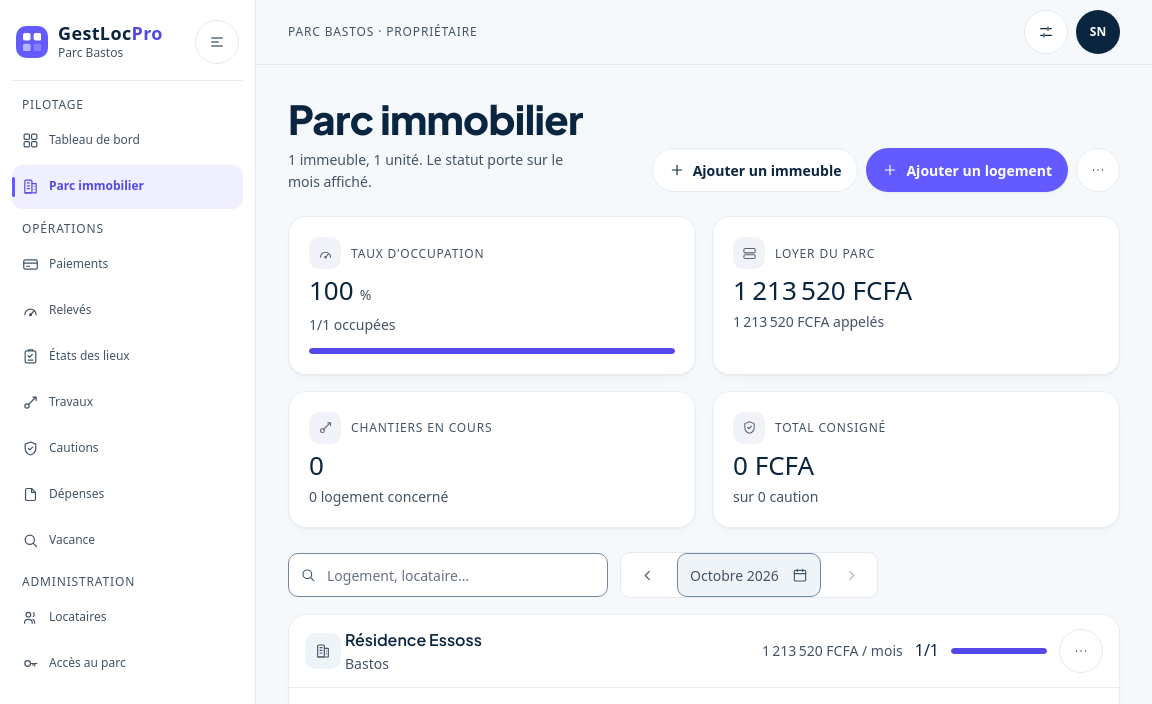
Test: corriger le parc › n’envoie que ce qui a changé
The width and height of the screenshot is (1152, 704).
Click the button named "Autres actions": (1098, 170) [1076,148,1120,192]
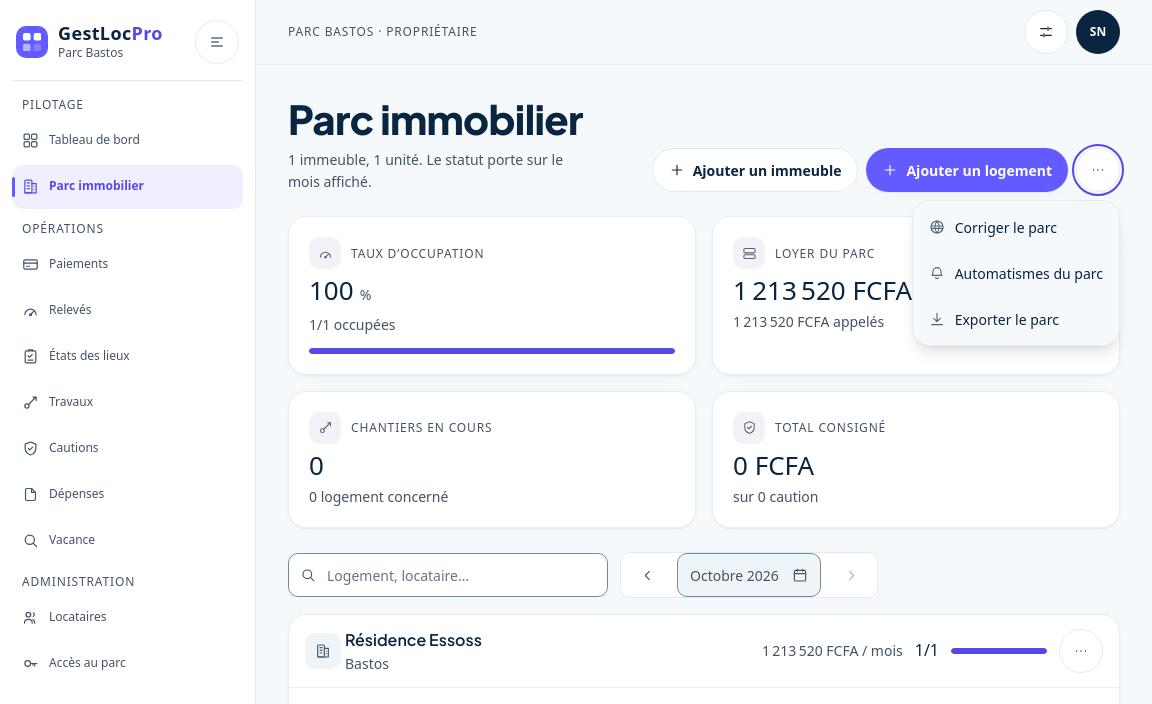
Click the menu item "Corriger le parc": (1016, 227) [917,205,1115,249]
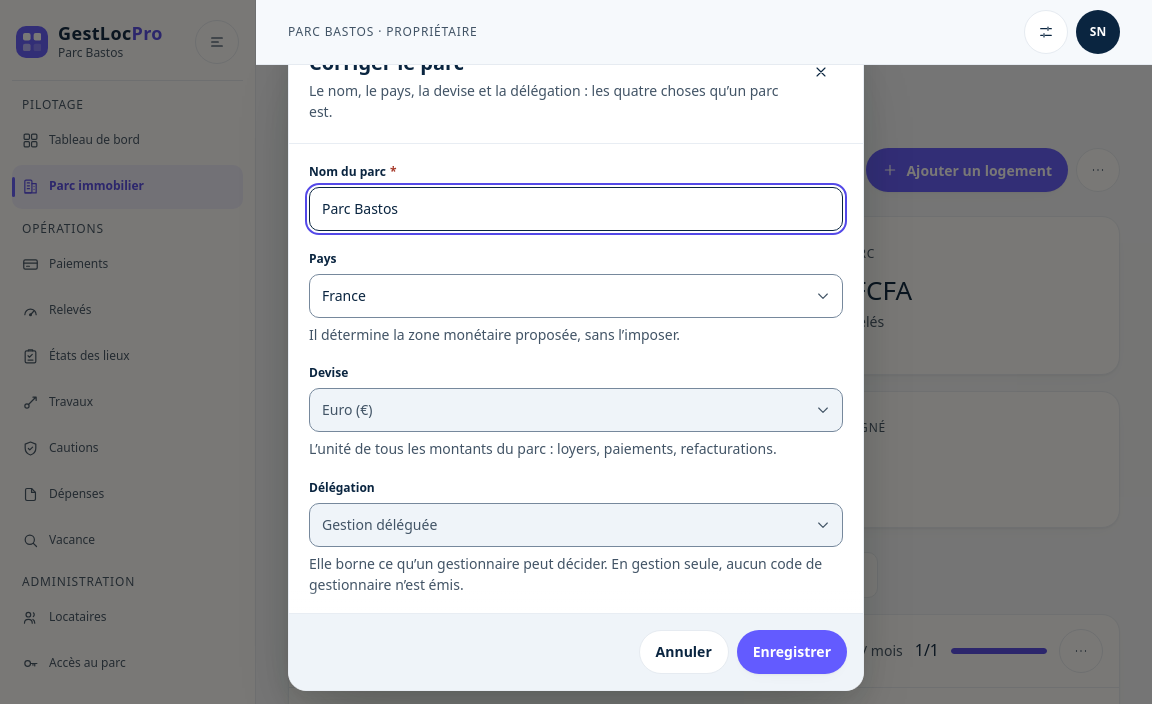
Replace the text in the field labelled "Nom du parc*" with "Parc Bastos II": (576, 209) [309,187,843,231]
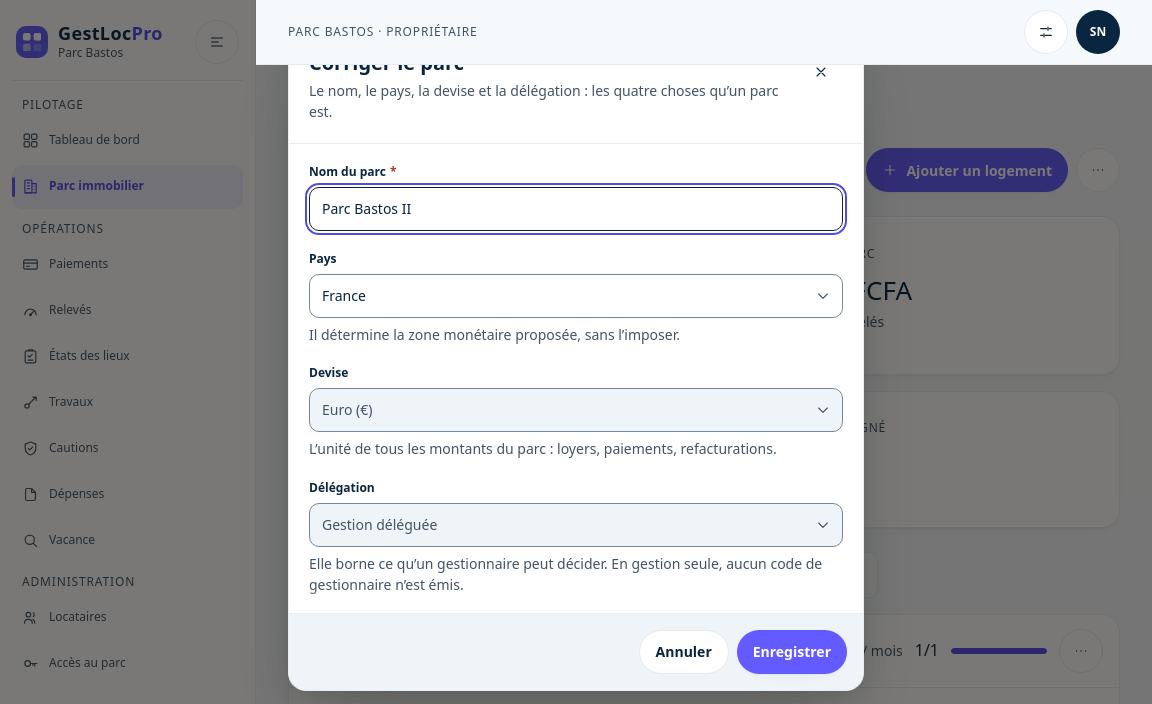
Click the button "Enregistrer": (792, 652) [737,630,847,674]
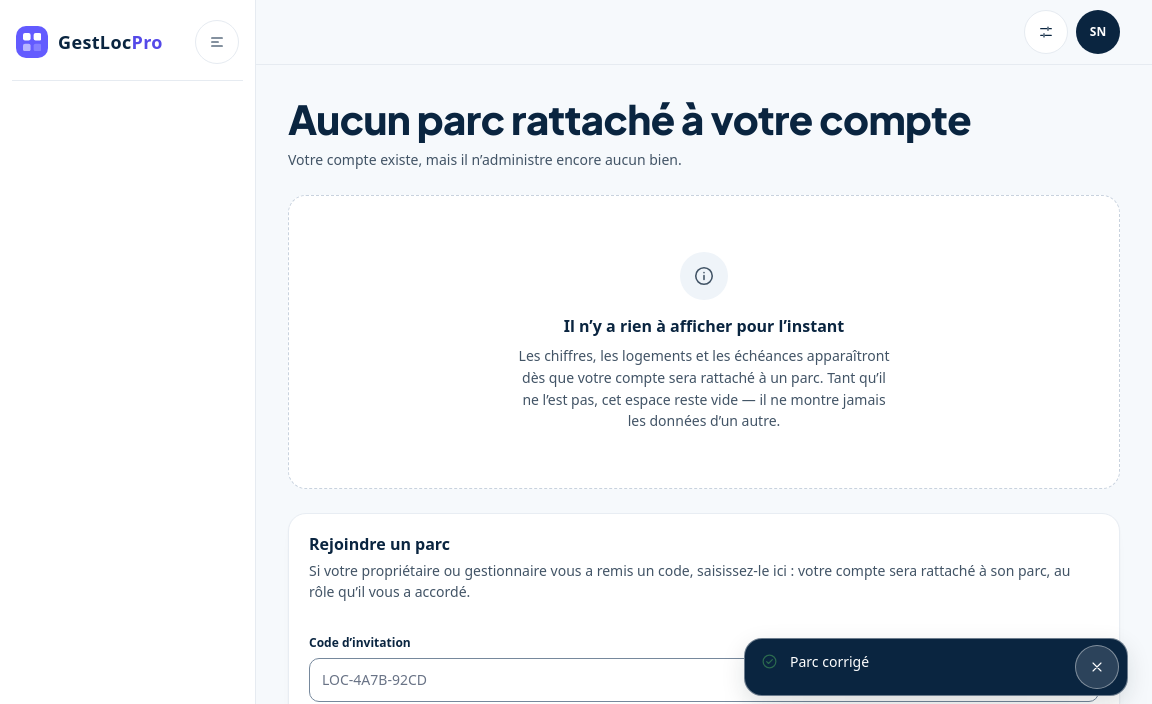
Check: the text "Parc corrigé" is shown, box [790,652,869,671]
